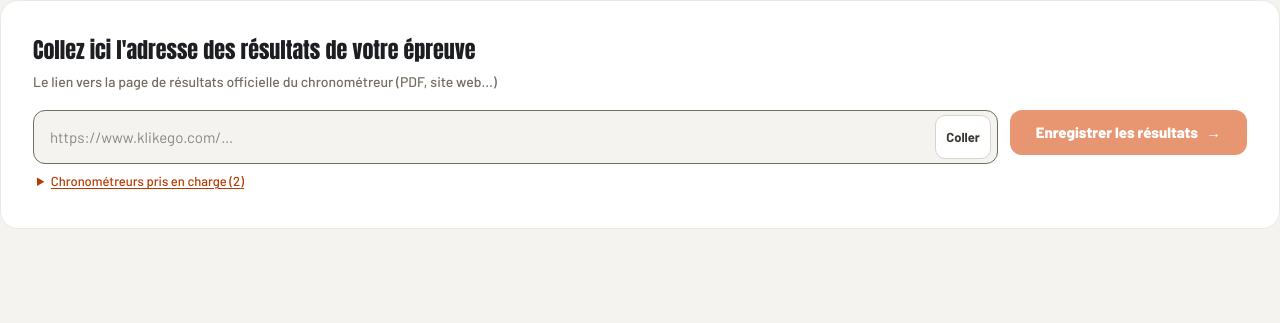
Test case: TcnScrapeForm — portée de l'import (#698) › nomme le groupe d'options à l'écran, pas seulement aux lecteurs d'écran
Type "https://www.klikego.com/resultats/foo/1?heat=x" into the field named "Adresse des résultats".
click(488, 137); type("https://www.klikego.com/resultats/foo/1?heat=x")  # box [50, 126, 925, 148]
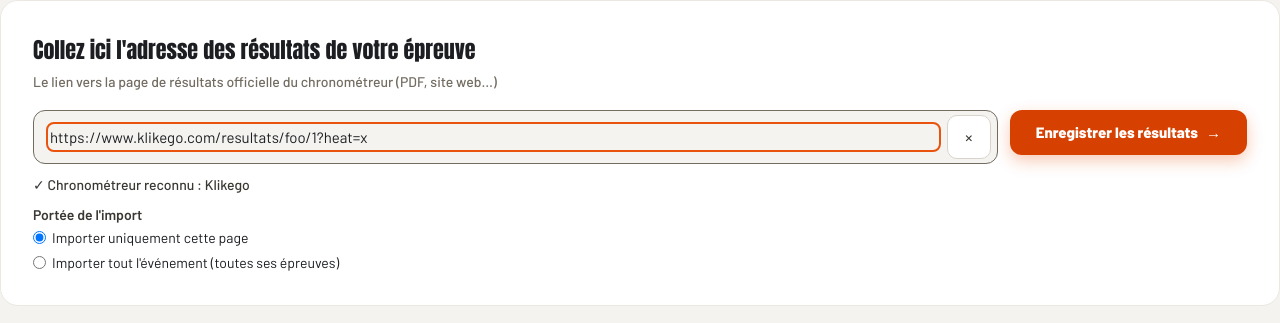
Expected: the text "Portée de l'import" is shown, [33, 204, 142, 225]
